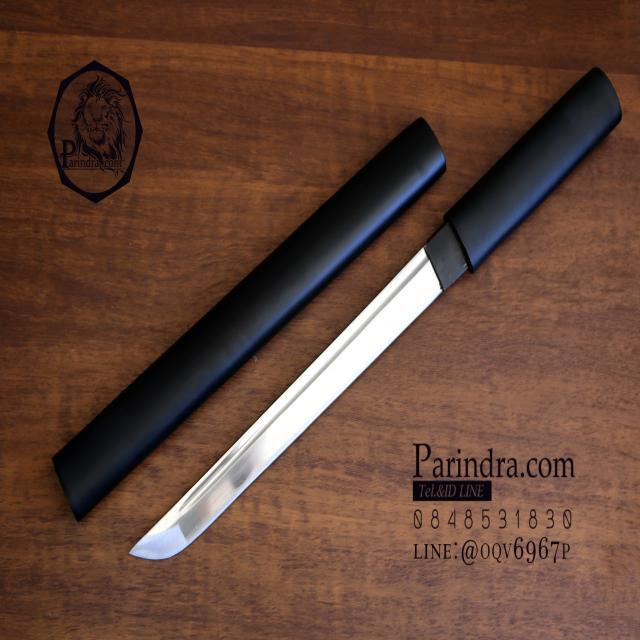short sword: (25, 48, 640, 584)
